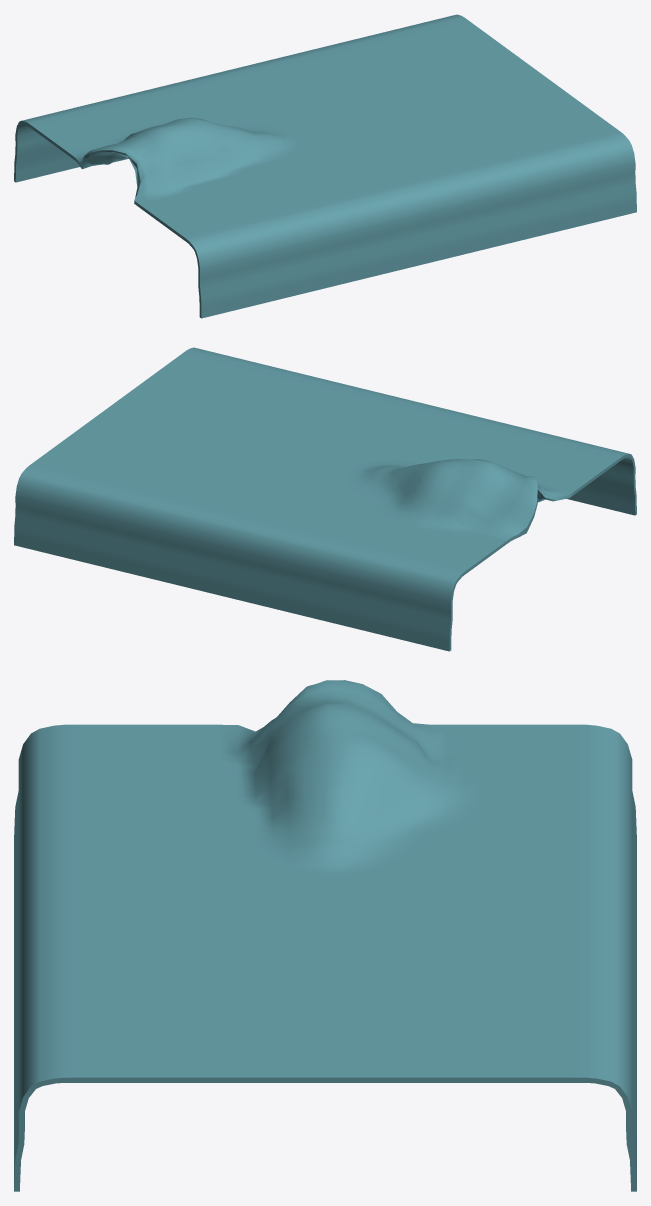
The model's file is Blanket.fbx.
The picture shows the model from 3 angles, top to bottom: view 1: azimuth 30°, elevation 25°; view 2: azimuth 150°, elevation 25°; view 3: azimuth 270°, elevation 25°; orthographic projection. The views are drawn at different scales.
Parts seen in each view (by area): view 1: pCube5; view 2: pCube5; view 3: pCube5.
Part boxes in pixels (x1,y1,x2,y2): pCube5: [14, 14, 636, 318]; pCube5: [14, 347, 636, 651]; pCube5: [14, 680, 636, 1191].
Bounding box in the file's own units: 146 × 33.68 × 107.
